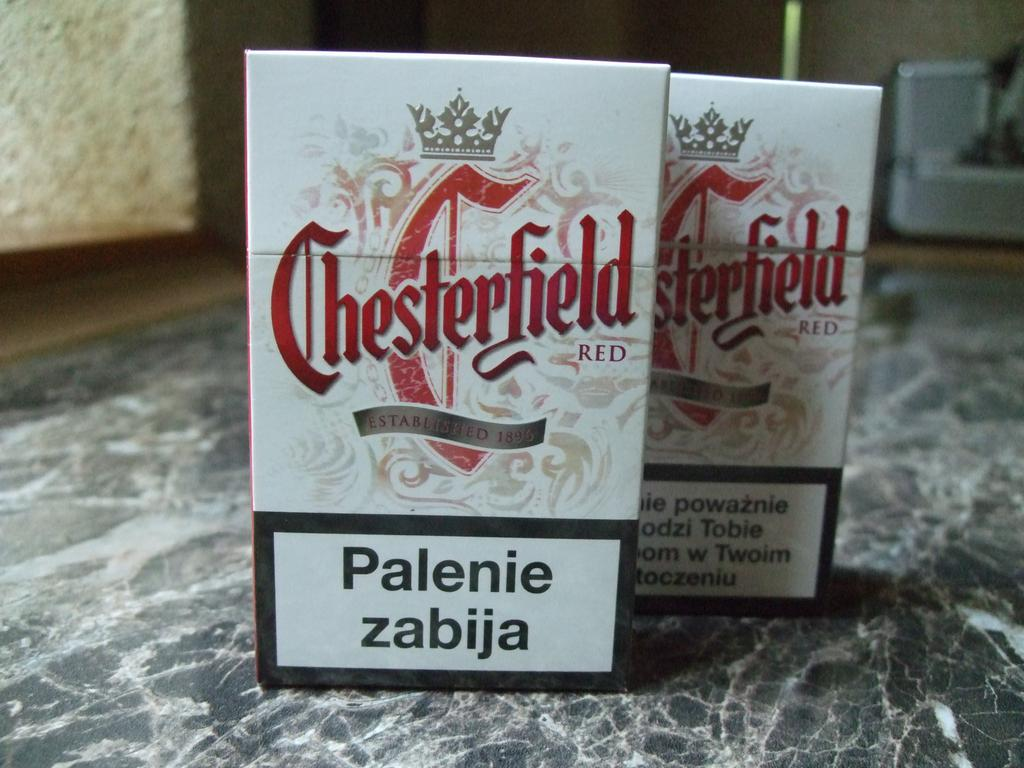chesterfield_red: (253, 66, 638, 692), (650, 80, 858, 609)
